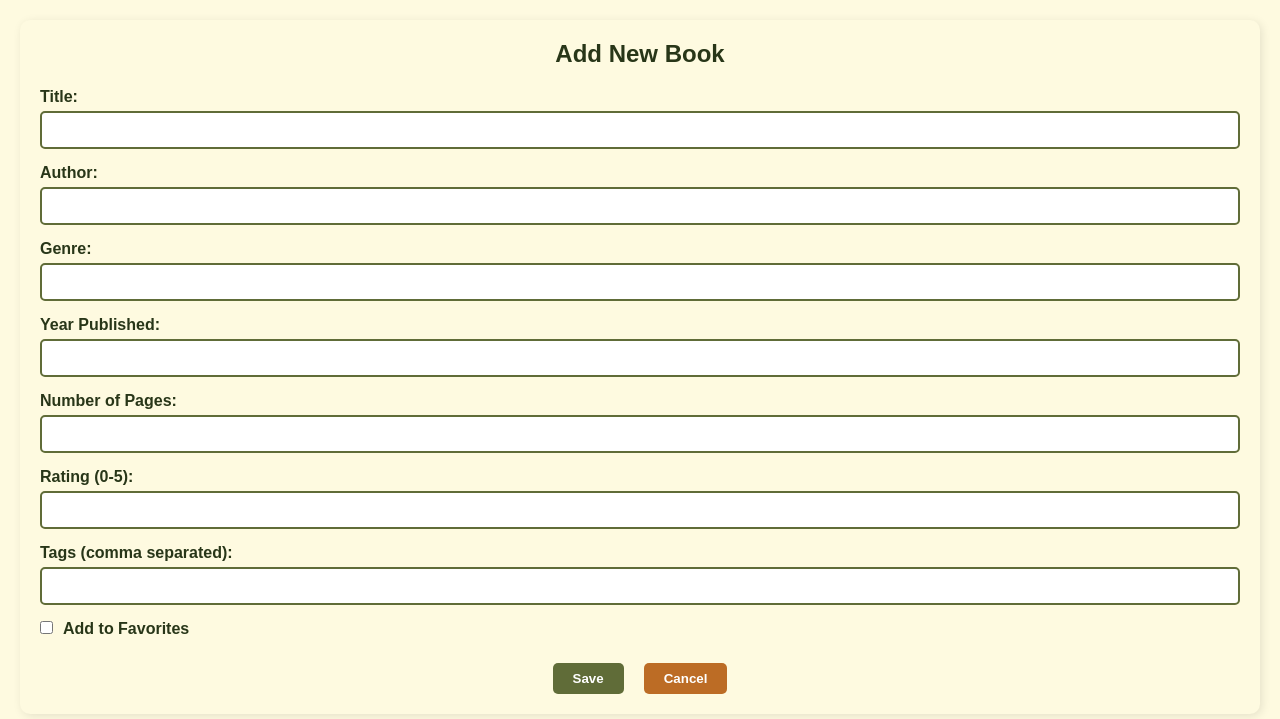
Test: BookForm Component › form validation works
The width and height of the screenshot is (1280, 719).
Click the button "Save": (588, 678) x1=553 y1=663 x2=624 y2=694
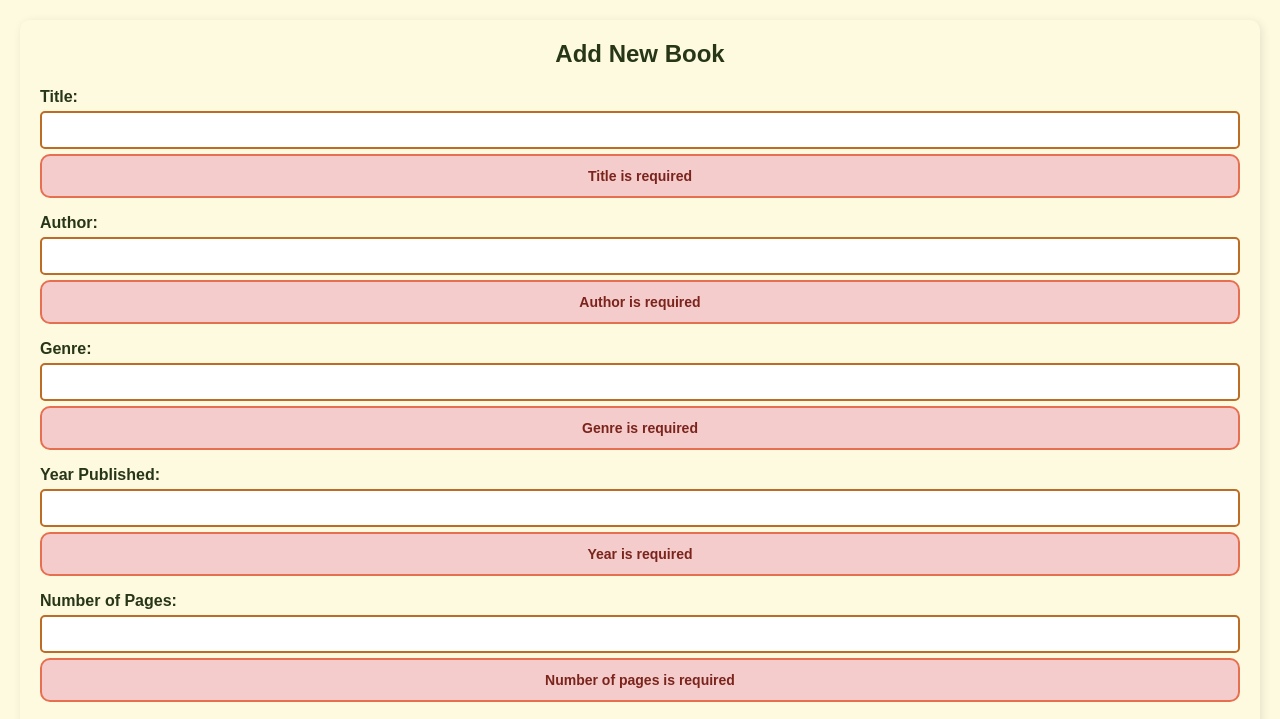
Now the text "Title is required" is shown, box x1=40 y1=154 x2=1240 y2=198
Now the text "Author is required" is shown, box x1=40 y1=280 x2=1240 y2=324
Now the text "Genre is required" is shown, box x1=40 y1=406 x2=1240 y2=450
